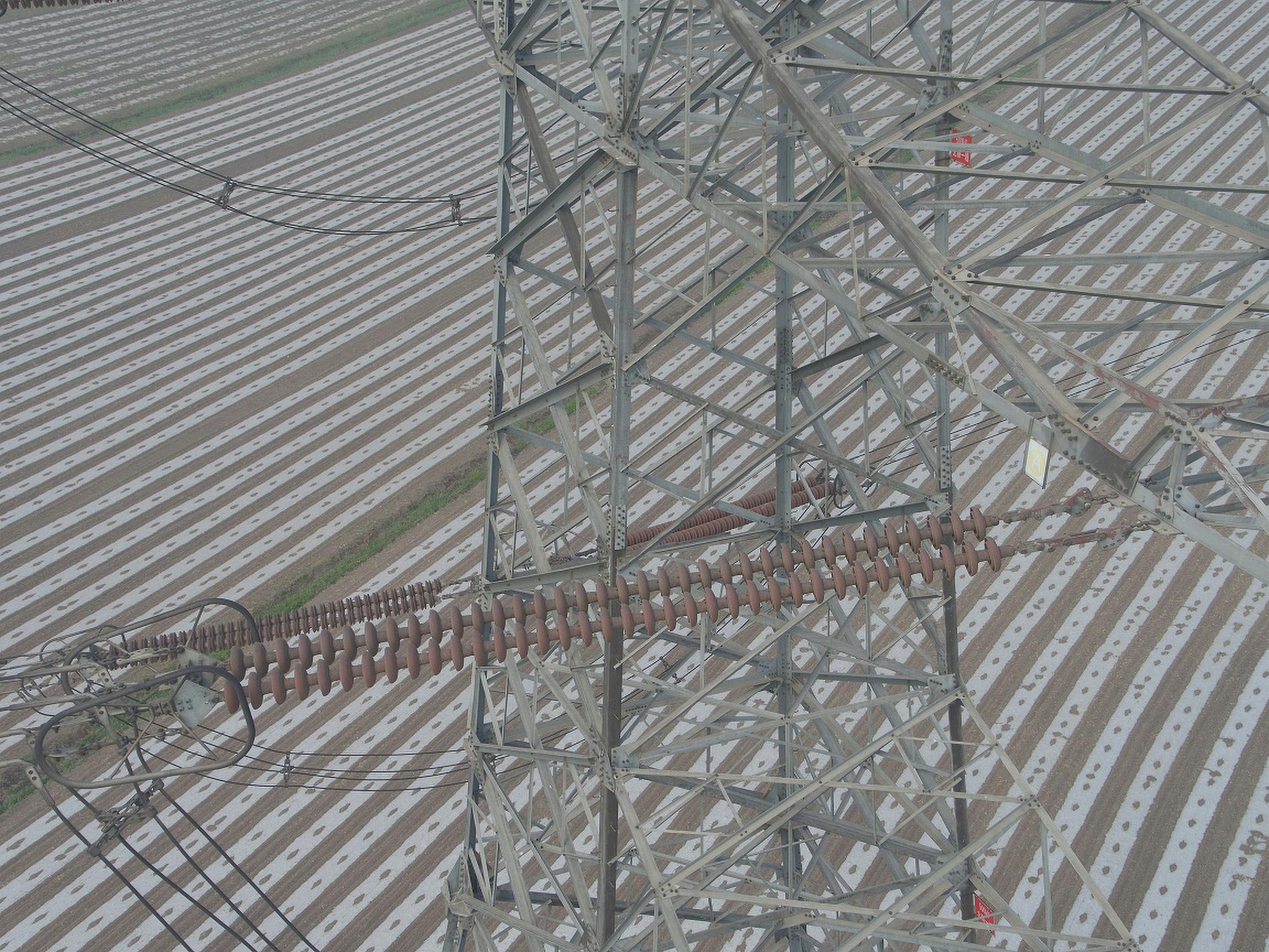insulator: (216, 502, 1006, 719), (105, 575, 446, 673), (623, 474, 838, 554)
